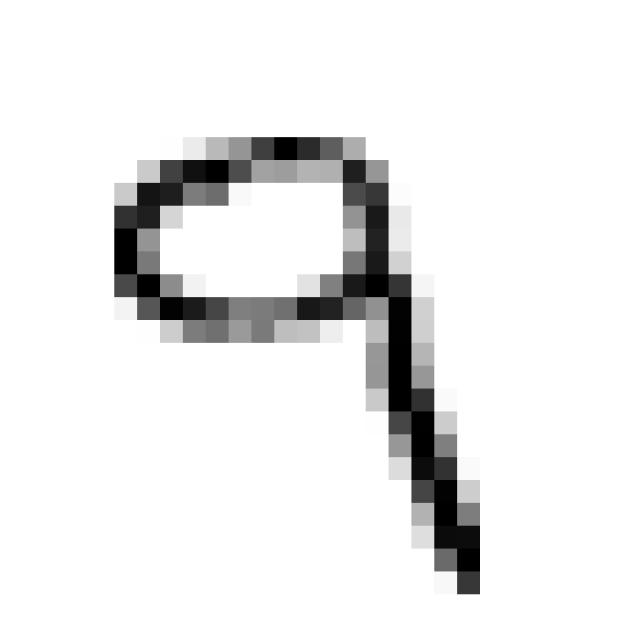9 -nine-: (89, 114, 500, 614)
